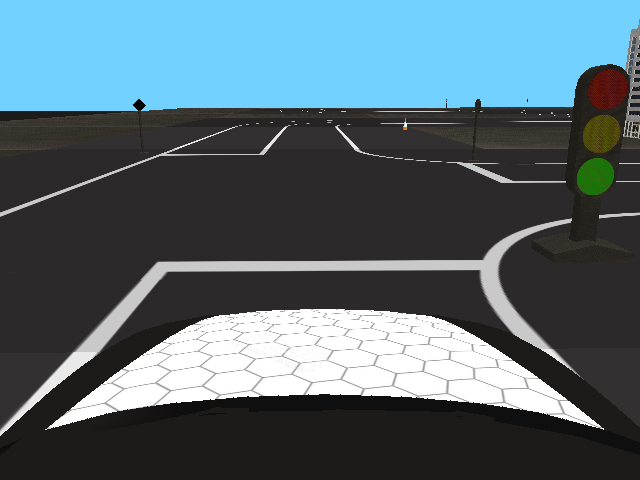green_light: (568, 66, 631, 198)
